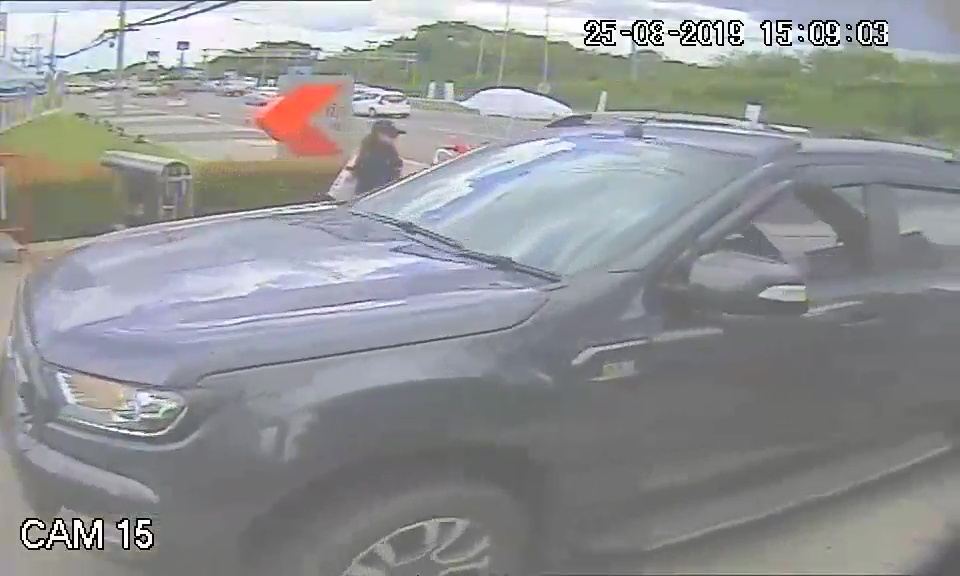pickup: (11, 119, 953, 550)
